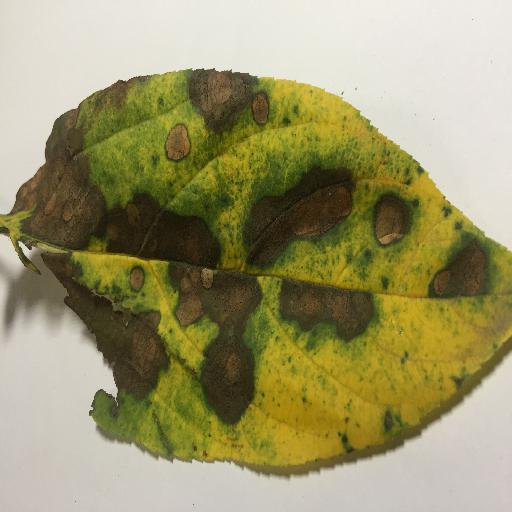Brown_Spot: (45, 258, 176, 397), (6, 191, 216, 270), (252, 176, 352, 267), (204, 274, 254, 422), (278, 277, 373, 341), (423, 237, 487, 292), (186, 72, 251, 124), (371, 193, 406, 245), (171, 266, 200, 326), (160, 126, 193, 159), (250, 95, 275, 132), (129, 265, 146, 289)
